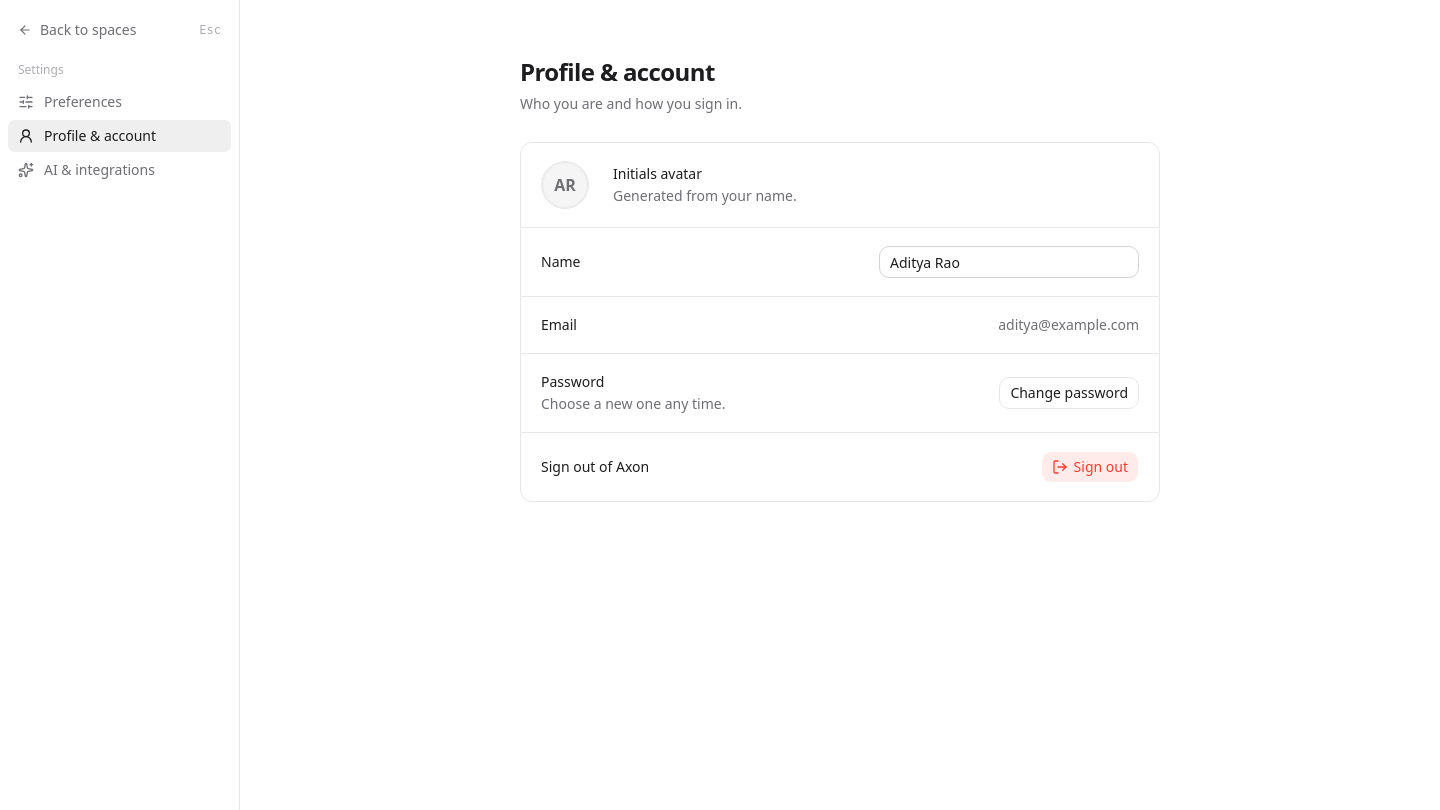
Test: SettingsPage › validates the change-password dialog
Click the button "Change password": (1069, 393) top-left (999, 377), bottom-right (1139, 409)
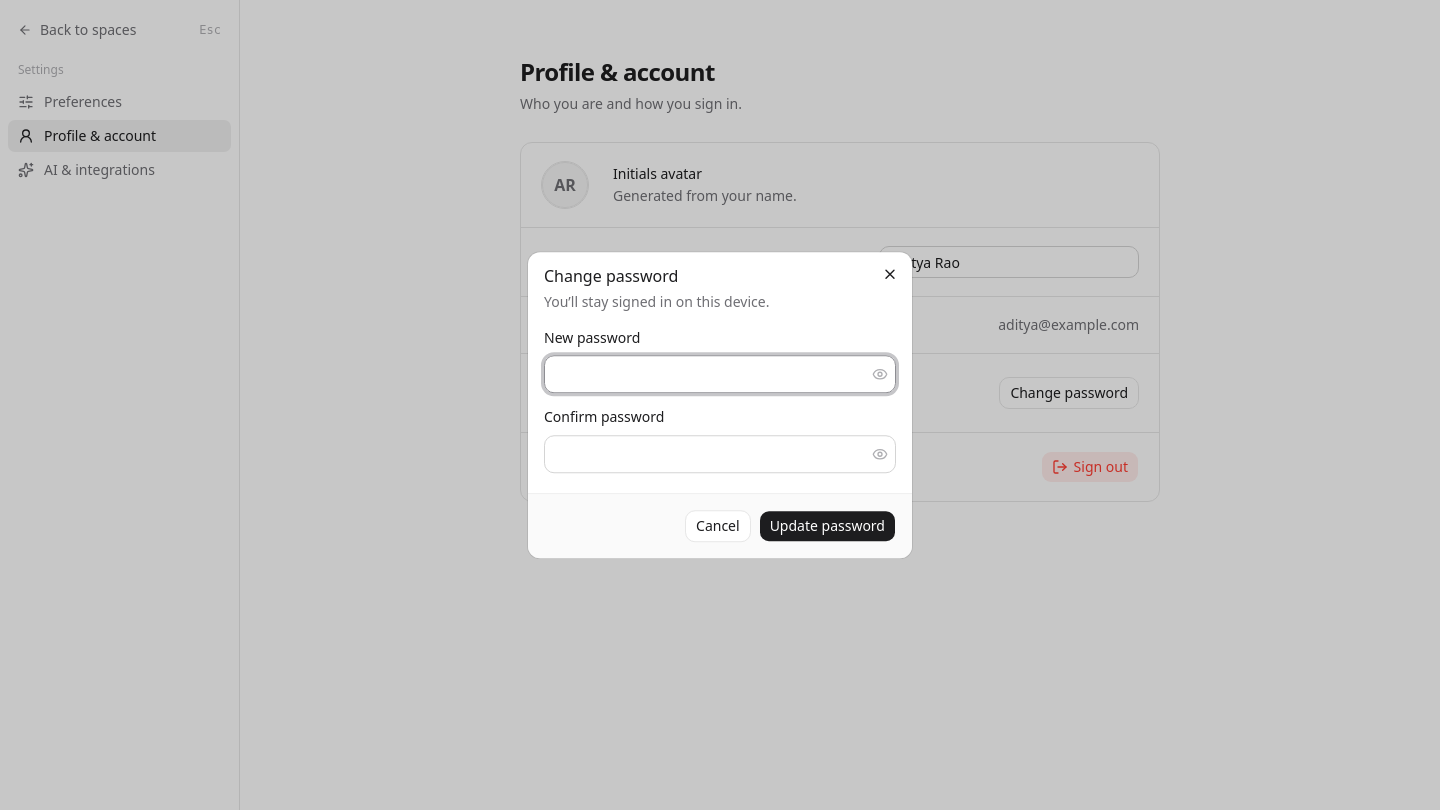
In the password field labelled "New password": (706, 374) top-left (545, 358), bottom-right (868, 390), type "longenough1"
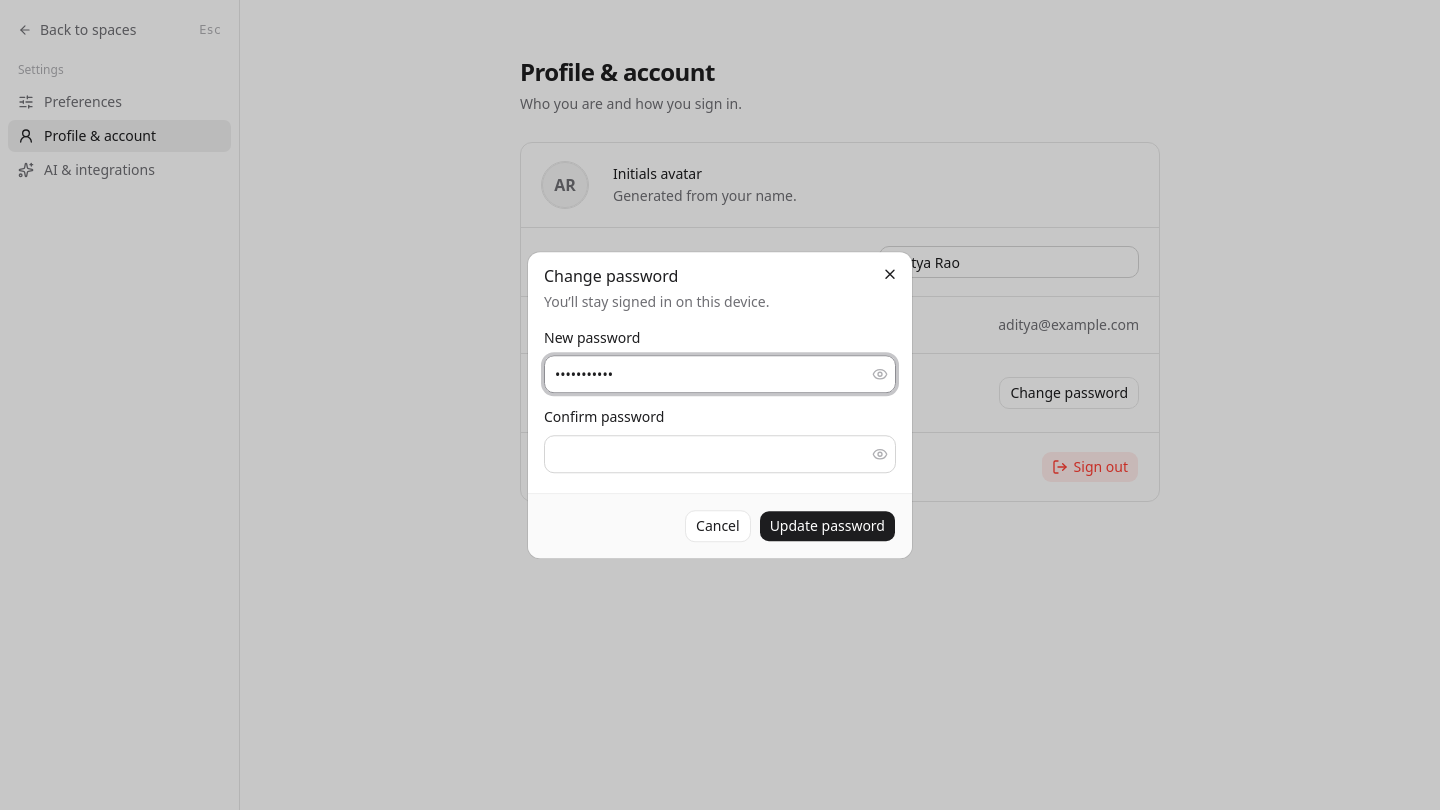
In the password field labelled "Confirm password": (706, 454) top-left (545, 438), bottom-right (868, 470), type "different11"
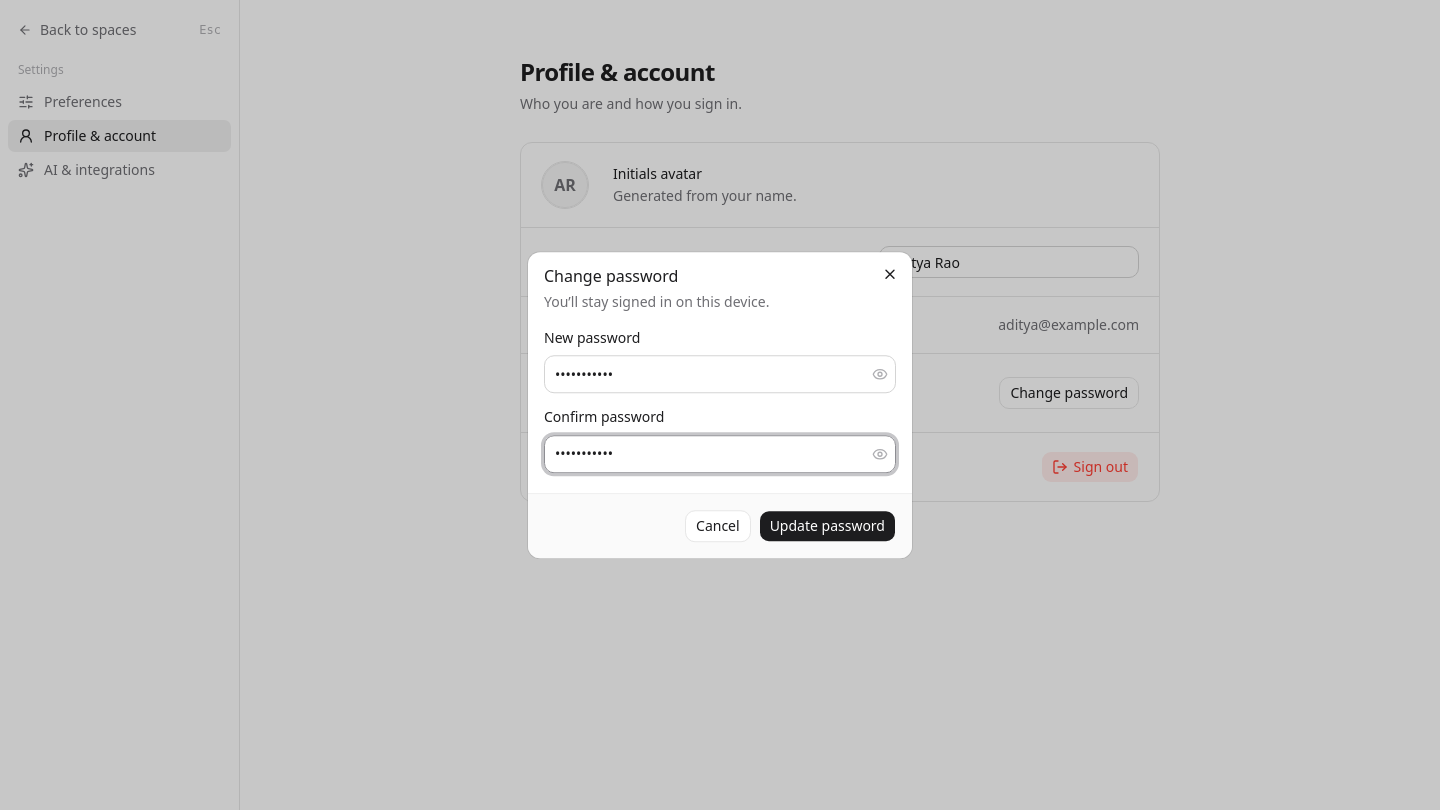
Click the button "Update password": (827, 526) top-left (759, 510), bottom-right (896, 542)
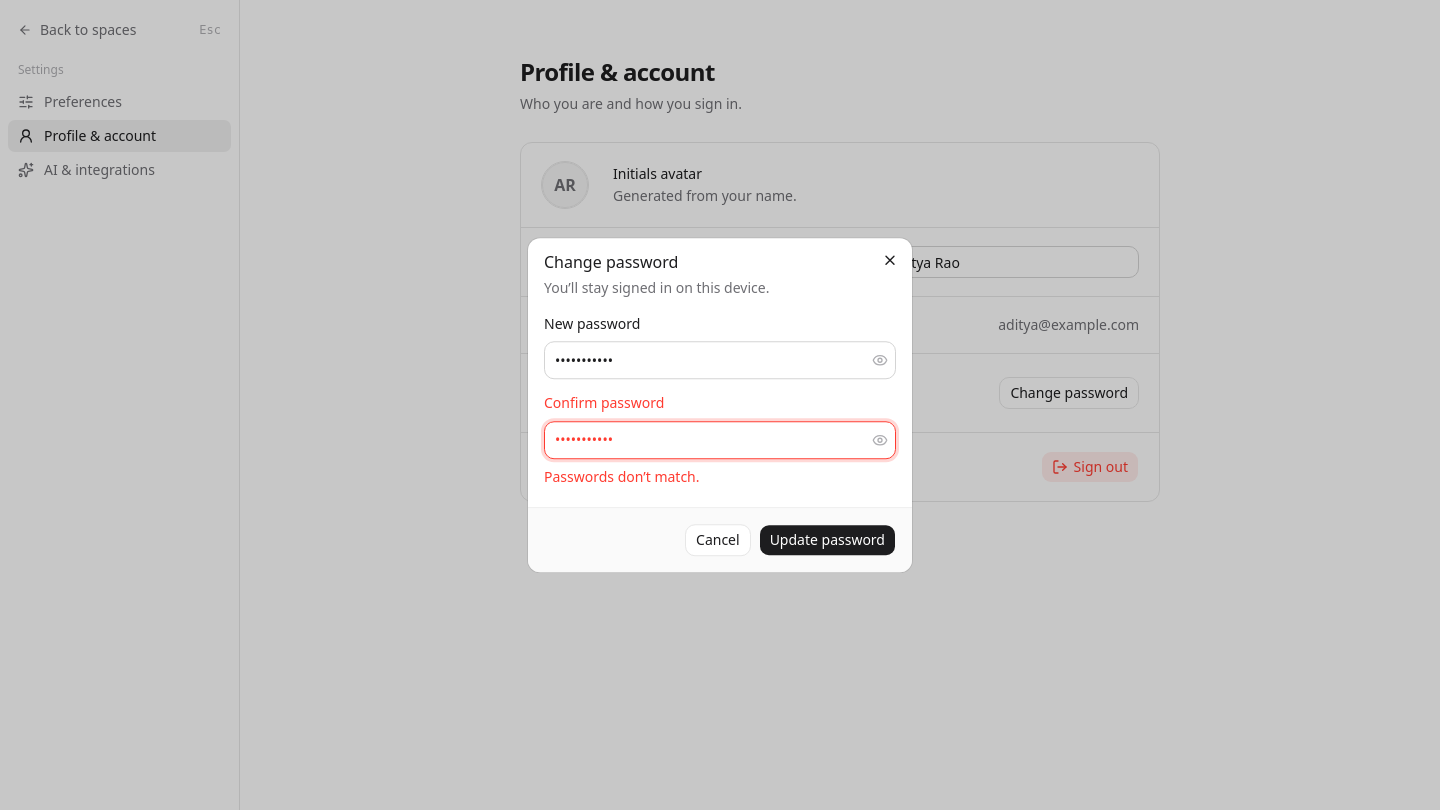
Result: the text "Passwords don’t match." is shown at top-left (544, 467), bottom-right (700, 486)
